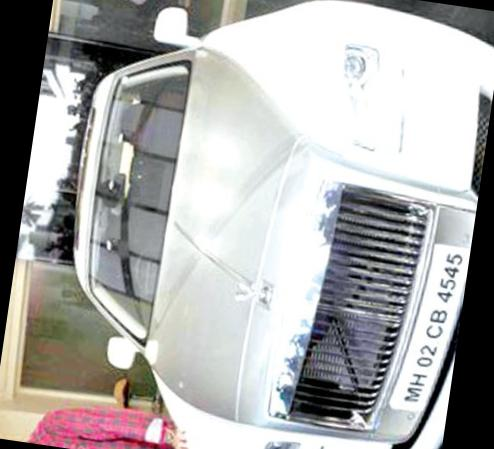plate: (379, 206, 475, 421)
